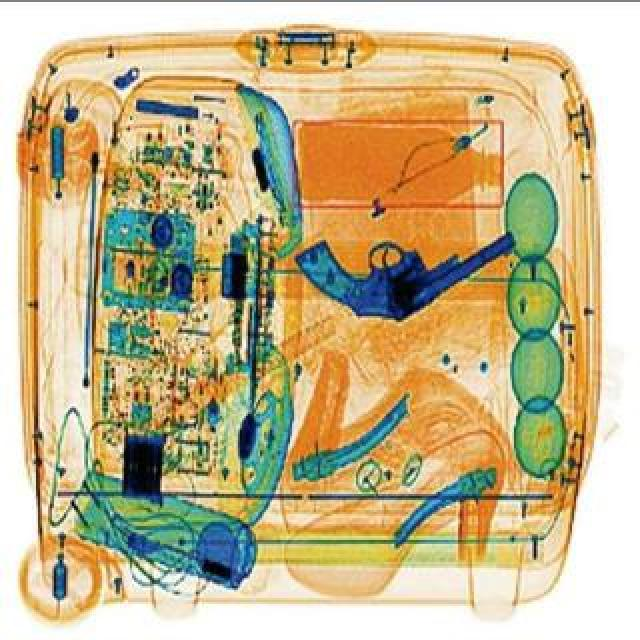gun: (290, 228, 520, 320)
